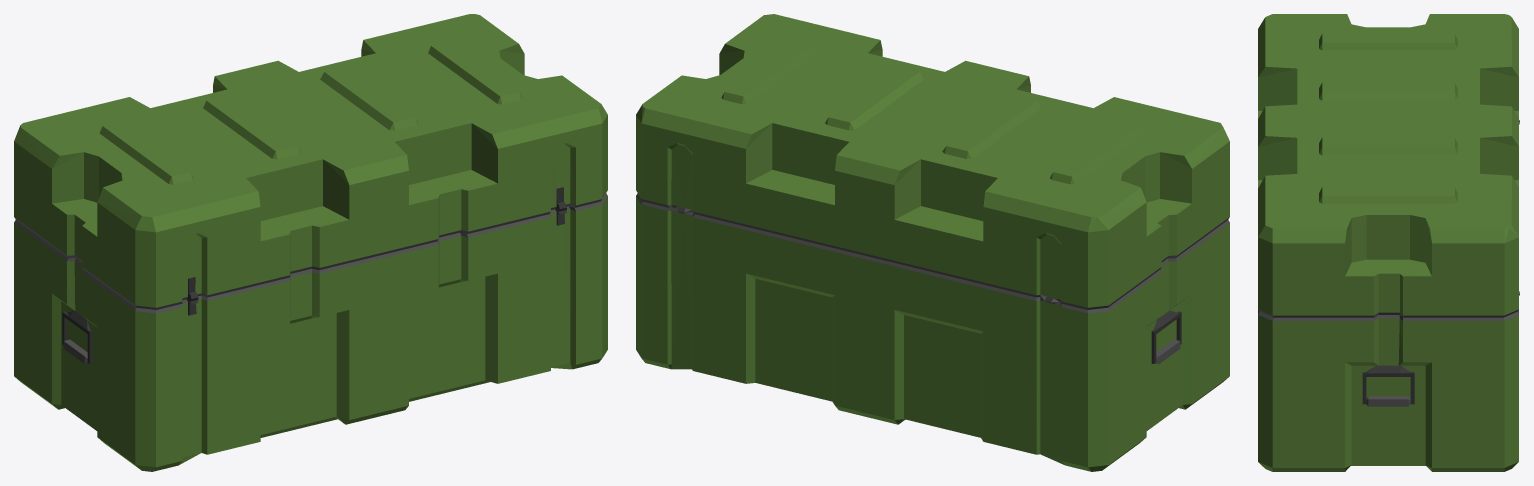
The model's file is MilitaryCrate_Large.fbx.
The picture shows the model from 3 angles, left to right: view 1: azimuth 30°, elevation 25°; view 2: azimuth 150°, elevation 25°; view 3: azimuth 270°, elevation 25°; orthographic projection. The views are drawn at different scales.
Visible parts, largest first — view 1: Cube; view 2: Cube; view 3: Cube.
Part boxes in pixels (left/top/right/bottom): Cube: left=14, top=14, right=607, bottom=471; Cube: left=636, top=14, right=1229, bottom=471; Cube: left=1258, top=14, right=1519, bottom=471.
Size of the model in its own units: 401 by 211 by 201.
